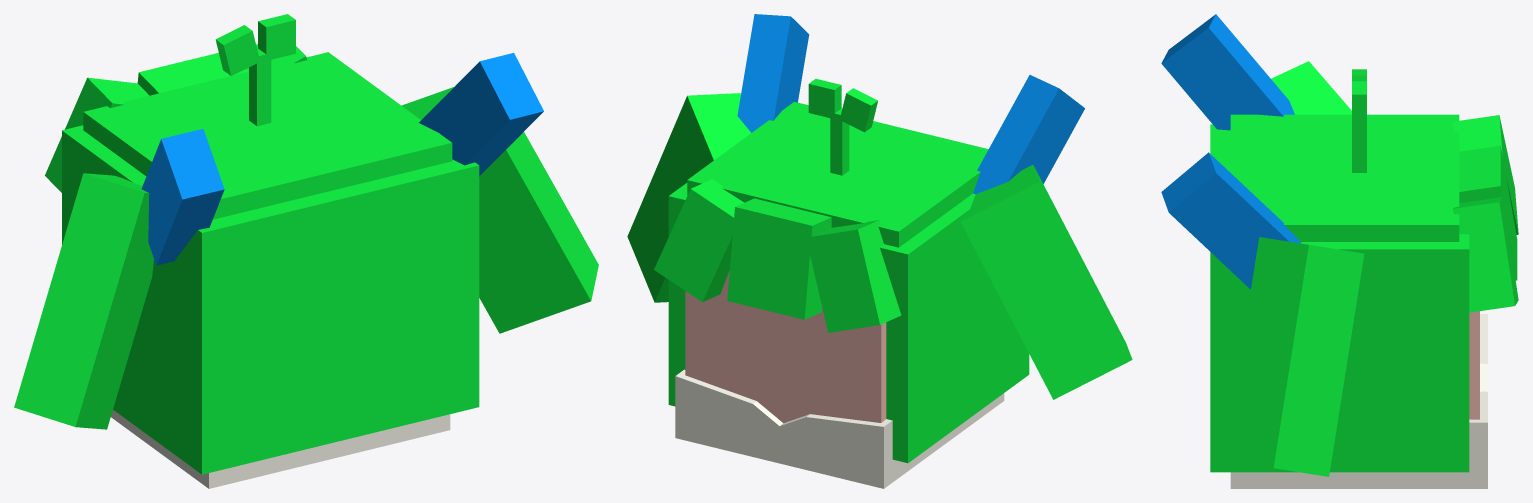
Rendered from PrincessSkin3.fbx.
The picture shows the model from 3 angles, left to right: view 1: azimuth 30°, elevation 25°; view 2: azimuth 150°, elevation 25°; view 3: azimuth 270°, elevation 25°; orthographic projection. The views are drawn at different scales.
Visible parts, largest first — view 1: Cube.081; view 2: Cube.081; view 3: Cube.081.
Boxes of the visible parts, x1,y1,x2,y2 form: Cube.081: (14,14,598,488); Cube.081: (627,14,1132,488); Cube.081: (1161,14,1518,488).
Size of the model in its own units: 516 by 324 by 296.
